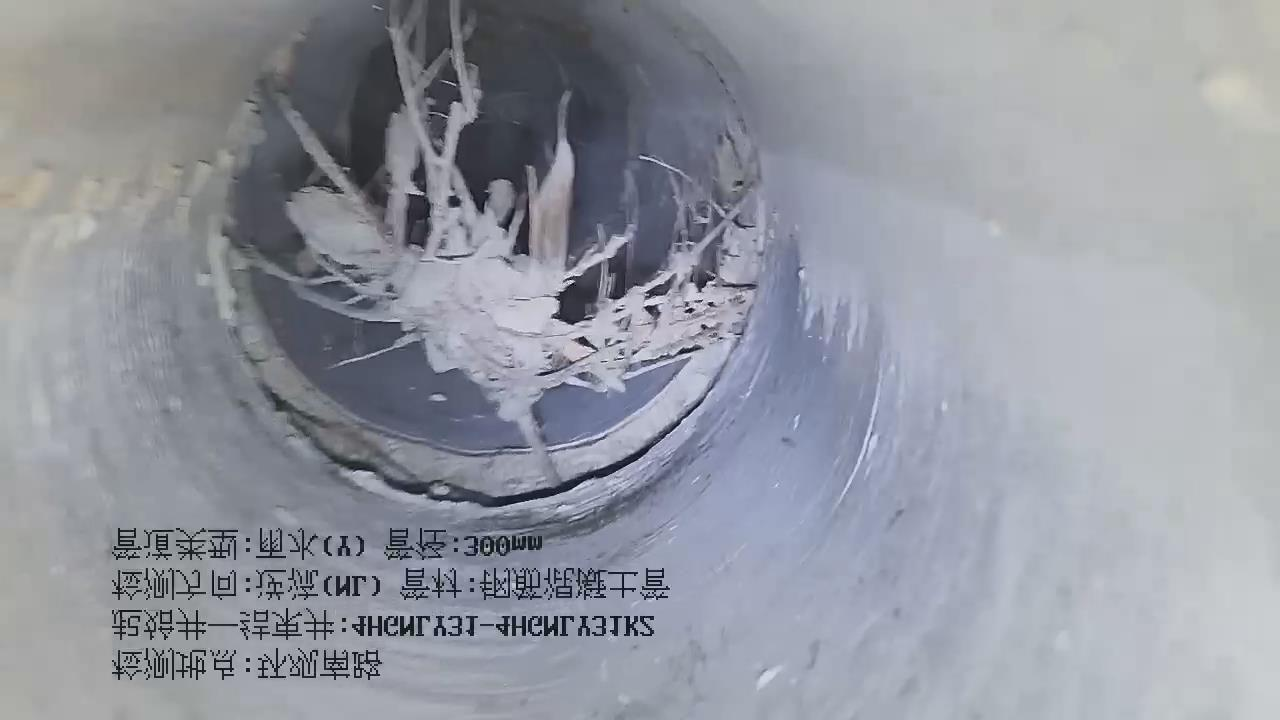CKTJ: (193, 5, 775, 522)
SG: (278, 1, 757, 484)
